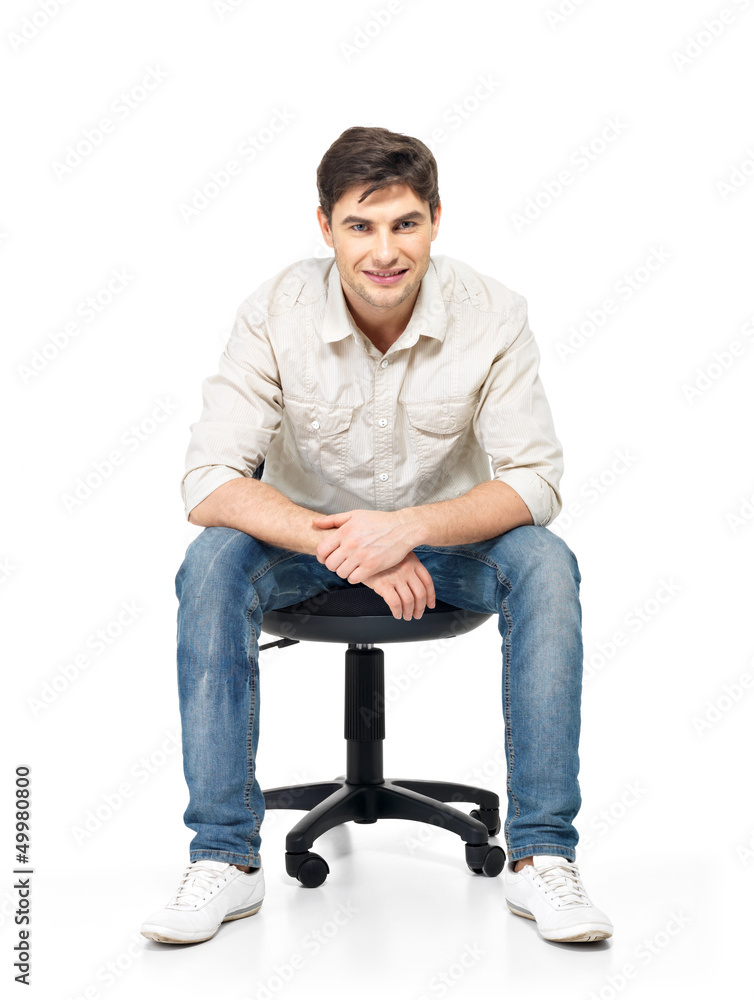Focused: (291, 101, 475, 341)
